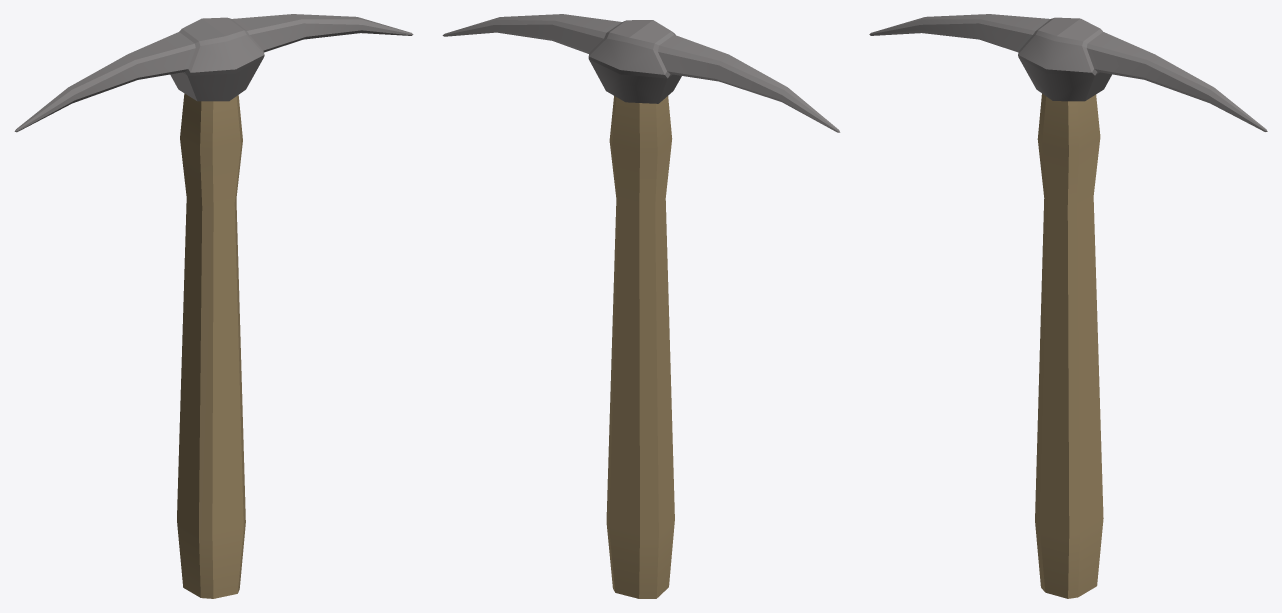
The model's file is Pick.fbx.
3 views of the same model, side by side, from view 1: azimuth 30°, elevation 25°; view 2: azimuth 150°, elevation 25°; view 3: azimuth 330°, elevation 25° (orthographic).
Parts seen in each view (by area): view 1: pCube2; view 2: pCube2; view 3: pCube2.
Boxes of the visible parts, left/top/right/bottom form: pCube2: left=14, top=14, right=413, bottom=598; pCube2: left=442, top=14, right=840, bottom=598; pCube2: left=869, top=14, right=1267, bottom=598.
Bounding box in the file's own units: 1.15 × 1.55 × 0.2179.
